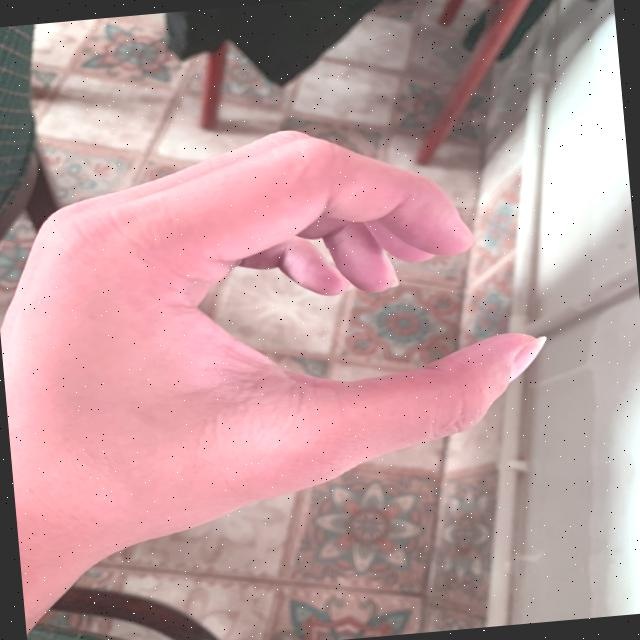no: (7, 94, 568, 522)
